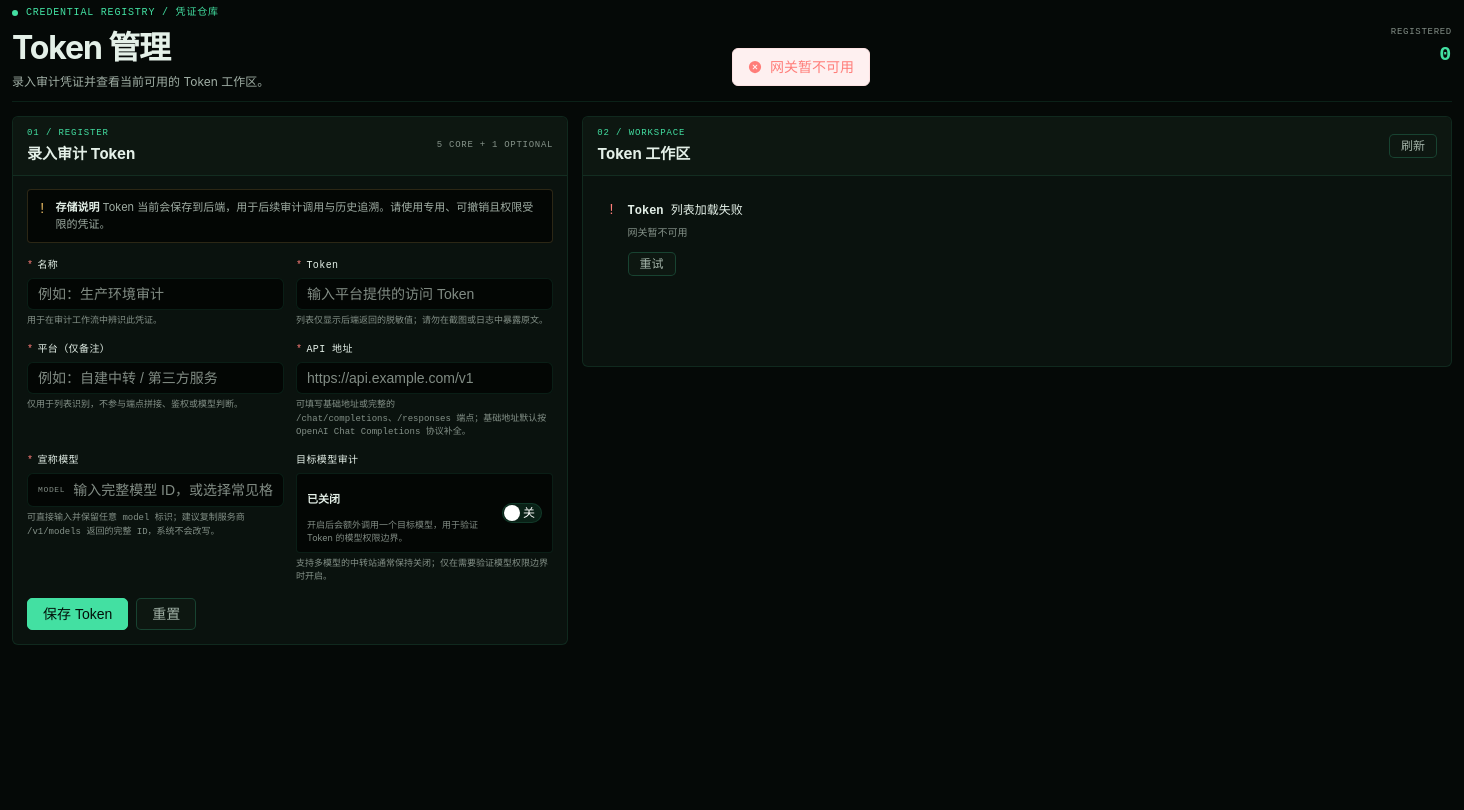
it: TokenManager › keeps load errors visible and retries
Expected: the message with test id "token-error" shows "网关暂不可用", [628,228,688,239]
Click the button "重试" at (652, 264), box [628,252,676,276]
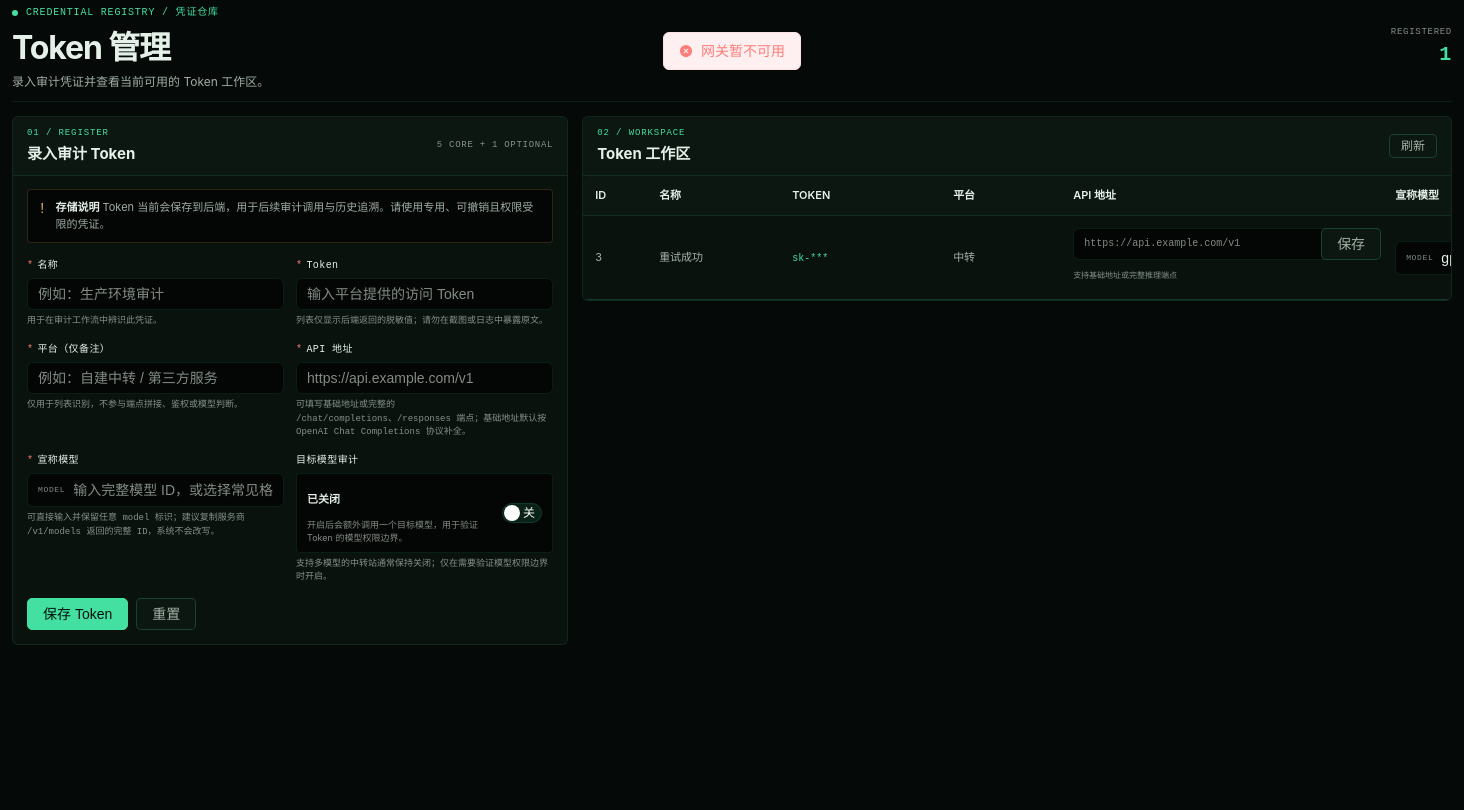
Result: the text "重试成功" is shown at [659,250,703,264]
